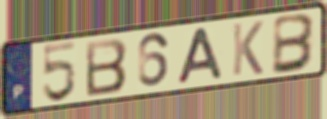5: (41, 39, 78, 105)
6: (136, 31, 171, 91)
A: (175, 25, 226, 86)
B: (270, 12, 318, 77), (83, 36, 130, 98)
K: (231, 20, 265, 78)
